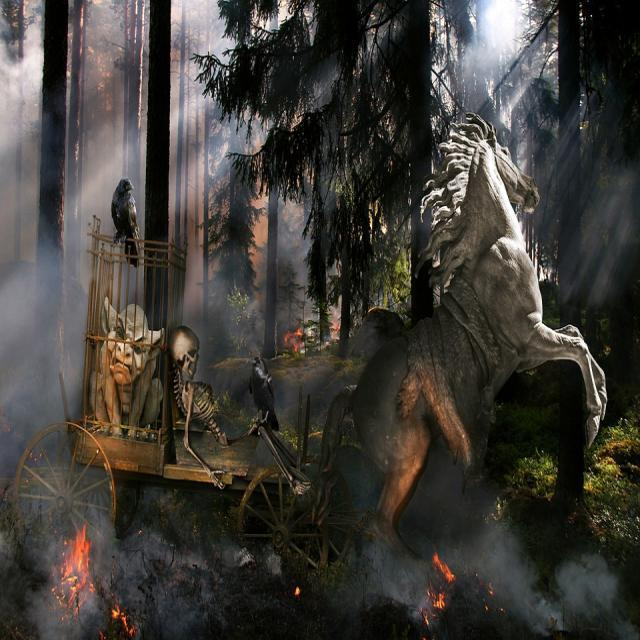Fire: (40, 522, 116, 627), (419, 546, 454, 629), (285, 322, 307, 355)
Smoke: (9, 31, 164, 173), (0, 199, 79, 442), (46, 516, 198, 622), (450, 510, 560, 635), (362, 544, 420, 613)
